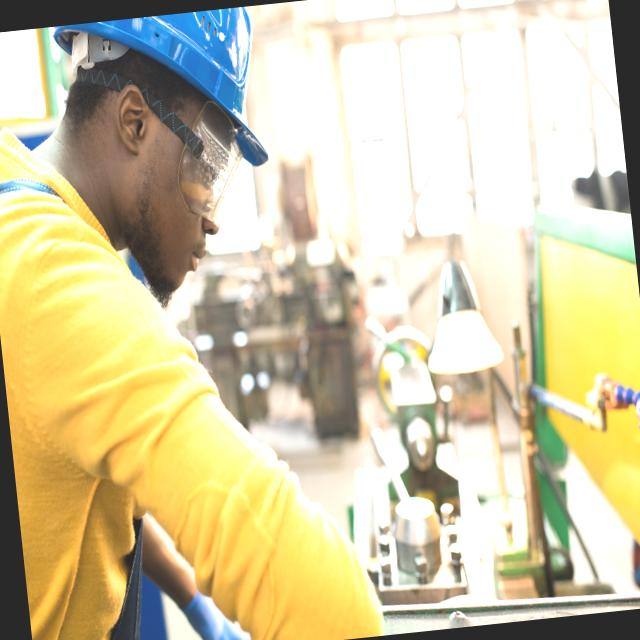goggles: (86, 56, 258, 234)
helmet: (50, 5, 272, 188)
no-vest: (0, 184, 363, 640)
